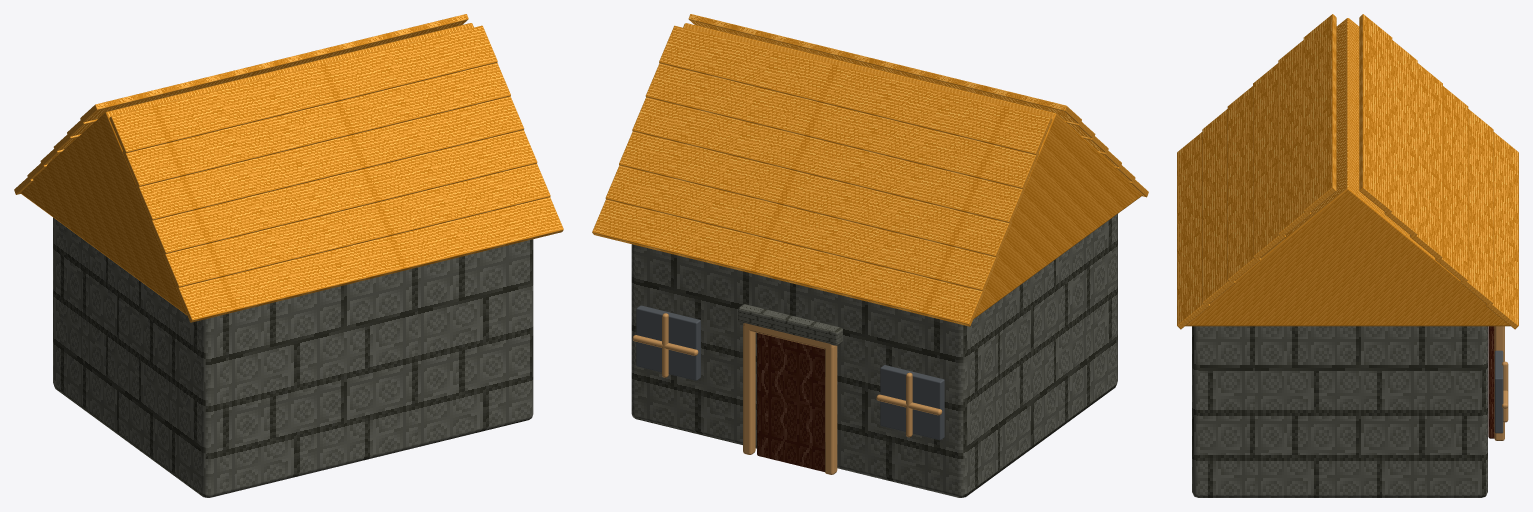
Rendered from cottage.glb.
3 views of the same model, side by side, from view 1: azimuth 30°, elevation 25°; view 2: azimuth 150°, elevation 25°; view 3: azimuth 270°, elevation 25° (orthographic). The views are drawn at different scales.
Visible parts, largest first — view 1: cottage_thatch, cottage_stone; view 2: cottage_thatch, cottage_stone, cottage_front_door, cottage_iron, cottage_wood_light; view 3: cottage_thatch, cottage_stone, cottage_wood_light, cottage_iron, cottage_front_door.
Boxes of the visible parts, <box> form: cottage_thatch: <box>14,14,563,322</box>; cottage_stone: <box>53,217,533,497</box>; cottage_thatch: <box>592,14,1148,326</box>; cottage_stone: <box>631,214,1117,497</box>; cottage_front_door: <box>757,333,824,471</box>; cottage_iron: <box>636,305,944,440</box>; cottage_wood_light: <box>632,313,942,474</box>; cottage_thatch: <box>1177,14,1518,329</box>; cottage_stone: <box>1192,326,1487,497</box>; cottage_wood_light: <box>1494,326,1508,440</box>; cottage_iron: <box>1494,350,1503,433</box>; cottage_front_door: <box>1488,326,1494,438</box>.
Bounding box in the file's own units: 6.18 × 5.35 × 5.14.
Materials: 5 (3 with a texture image).
